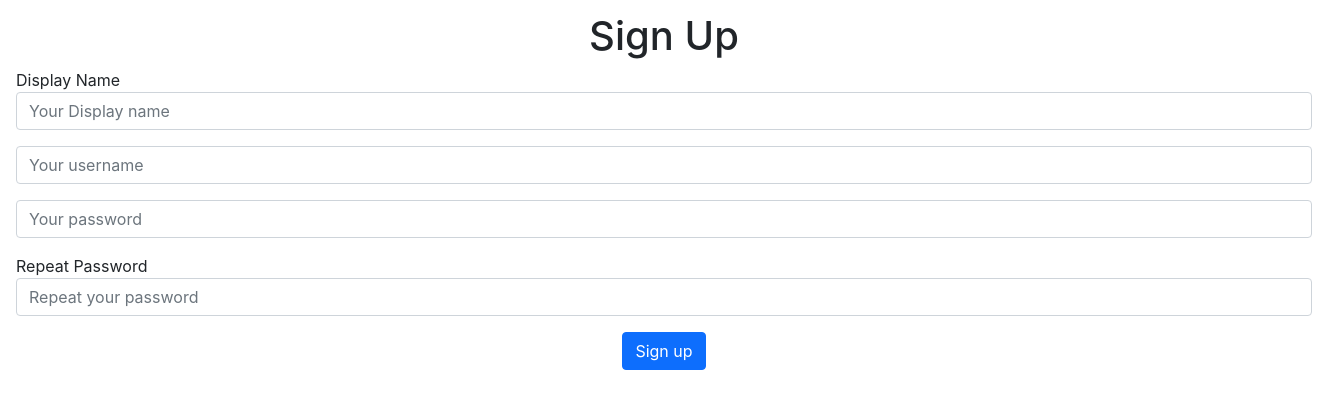
UserSignupPage › Interaction › hide the validation error when user changes the content of display
This screenshot has width=1329, height=412.
Type "my-display-name" into the field with placeholder "Your Display name" at (664,111), box [16,92,1312,130]
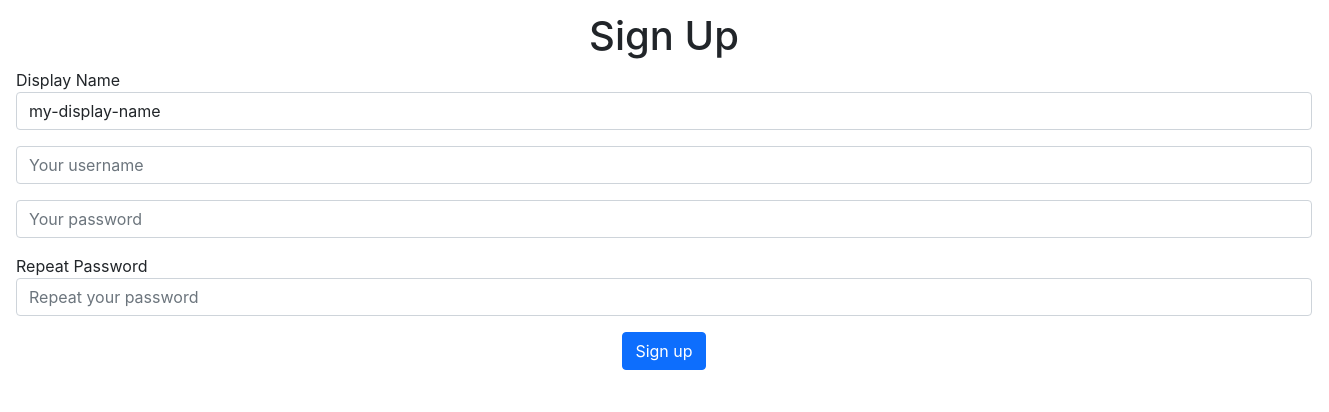
Type "my-user-name" into the field with placeholder "Your username" at (664,165), box [16,146,1312,184]
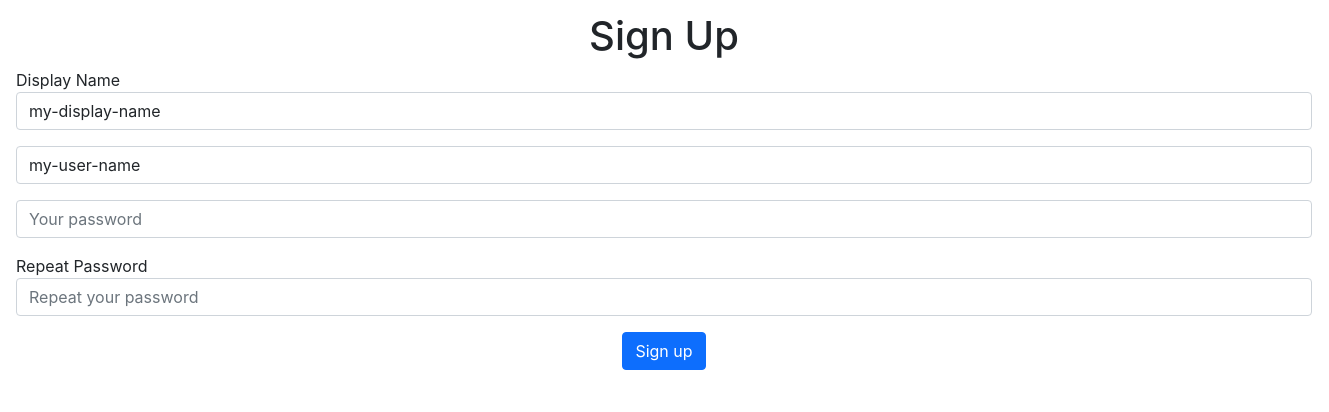
Type "P@ssword" into the password field with placeholder "Your password" at (664,219), box [16,200,1312,238]
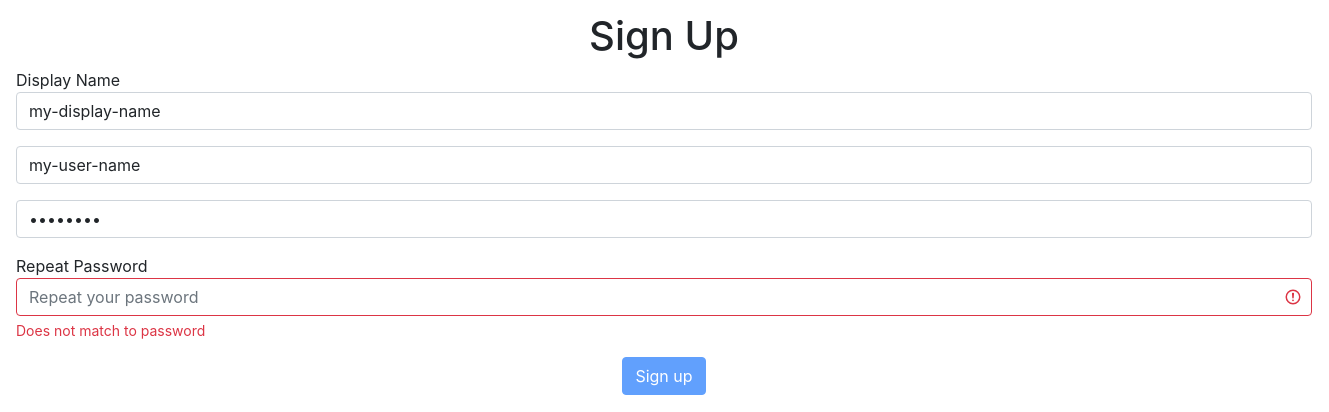
Type "P@ssword" into the password field with placeholder "Repeat your password" at (664,297), box [16,278,1312,316]
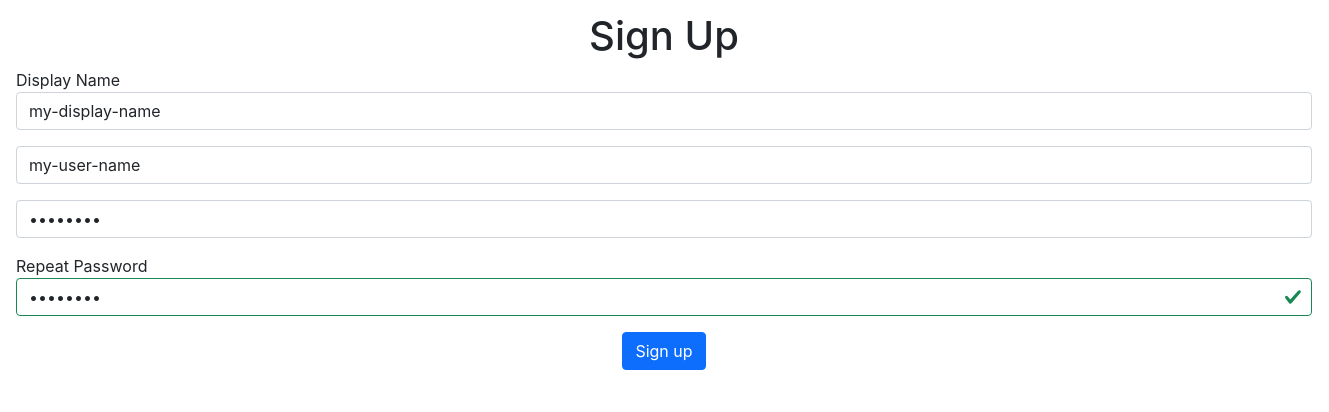
Click the button "Sign up" at (664,351), box [622,332,706,370]
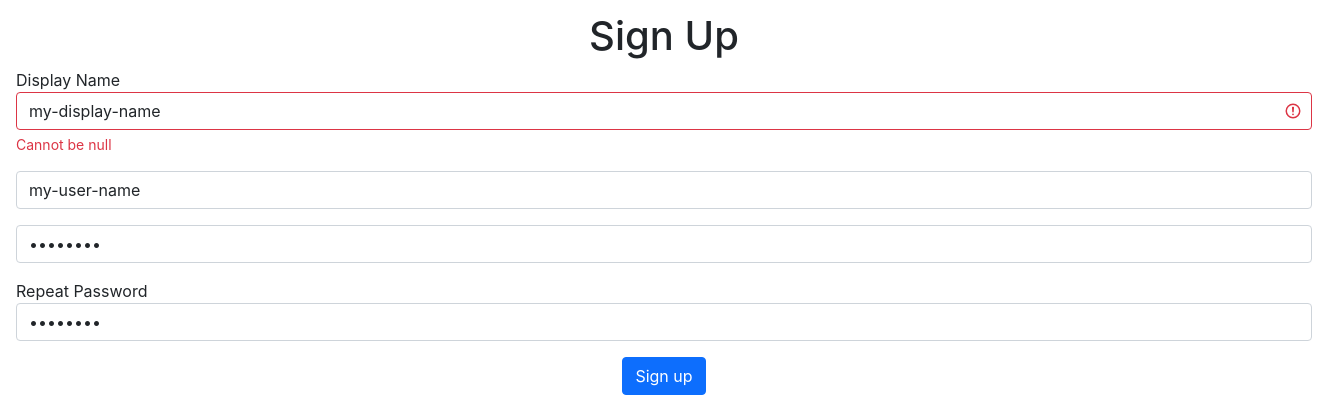
Replace the text in the field with placeholder "Your Display name" below "Display Name" with "name updated" at (664,111), box [16,92,1312,130]
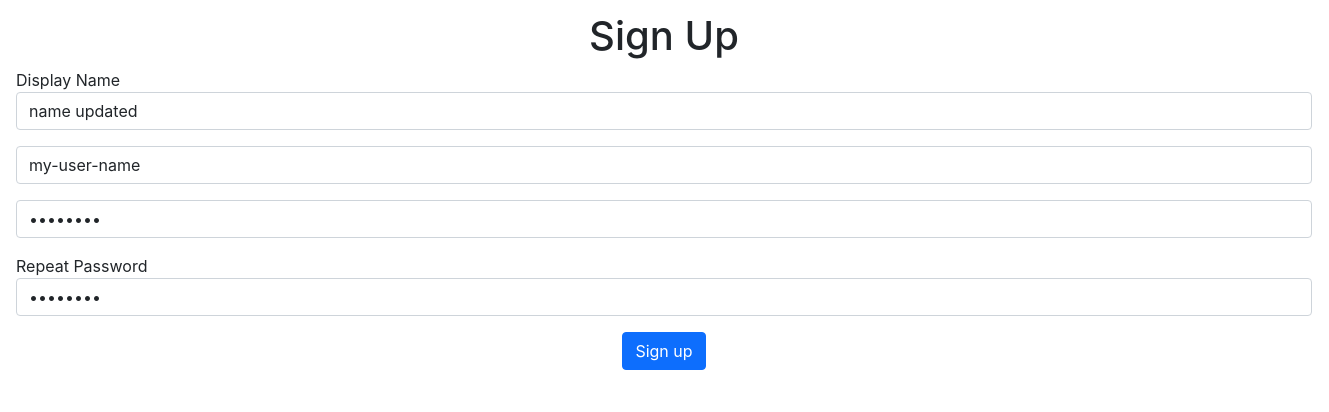
Expected: the text "Cannot be null" is gone
